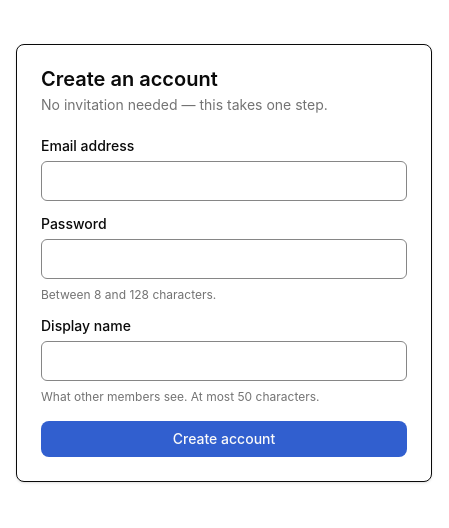
Test: when the address or the name is already taken › says so for a taken display name too, and keeps everything typed
Step 1. Type "someone@example.test" into the field labelled "Email address" → [224, 181], box [41,161,407,201]
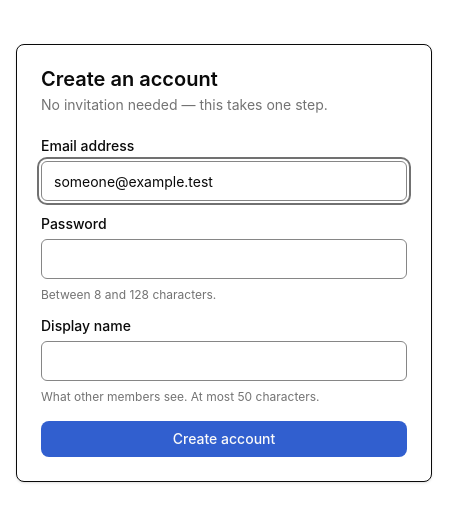
Step 2. Type "a-long-enough-password" into the password field labelled "Password" → [224, 259], box [41,239,407,279]
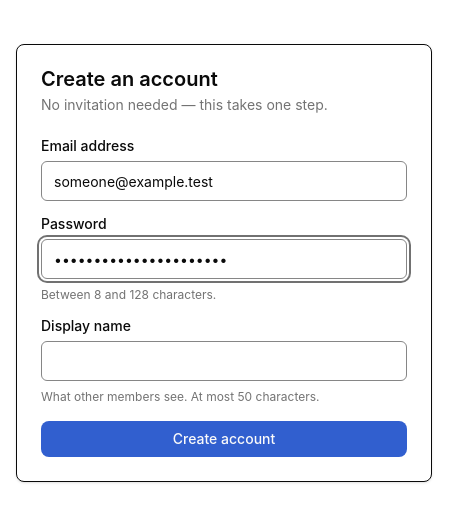
Step 3. Type "Someone Real" into the field labelled "Display name" → [224, 361], box [41,341,407,381]
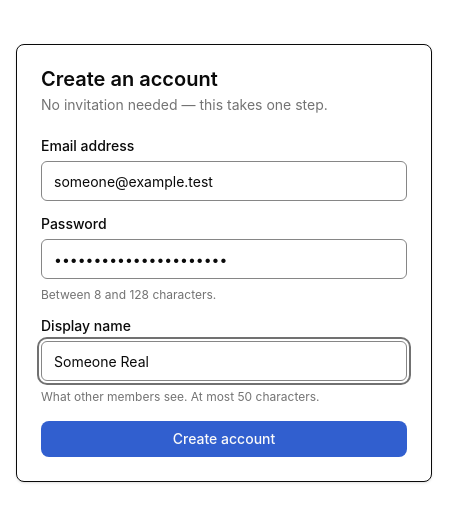
Step 4. Click the button "Create account" → [224, 439], box [41,421,407,457]
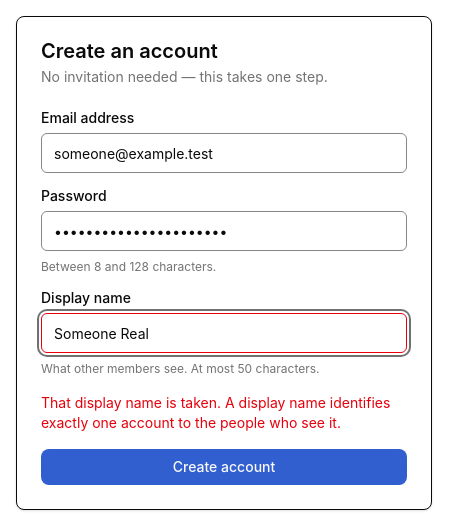
Expected: the message shows "That display name is taken", [41,394,390,431]
